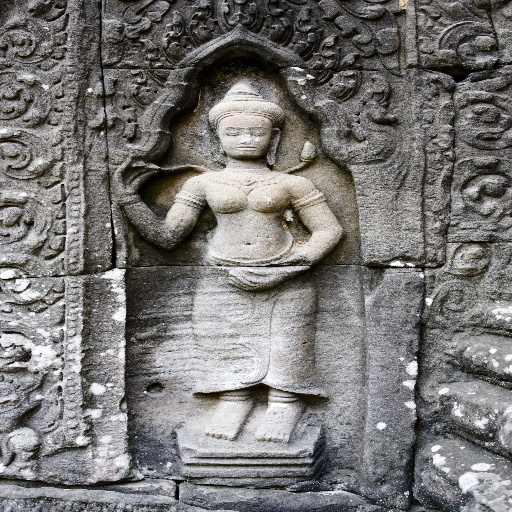hand: (110, 151, 159, 199), (227, 263, 294, 291)
